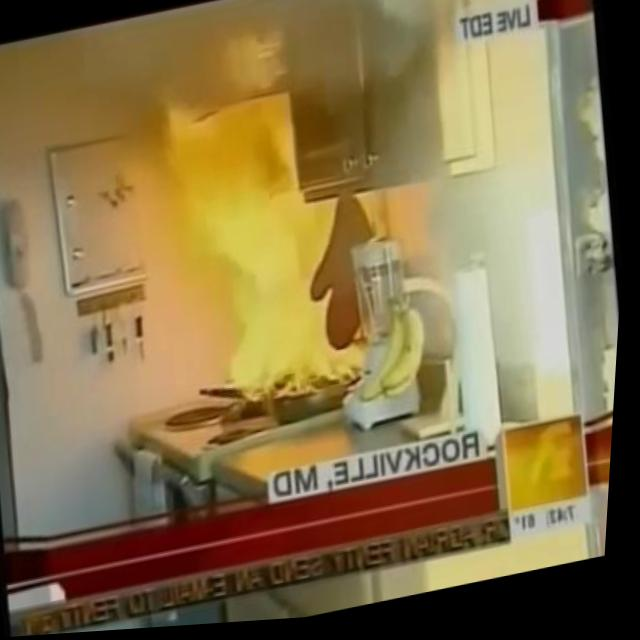fire: (139, 15, 408, 428)
